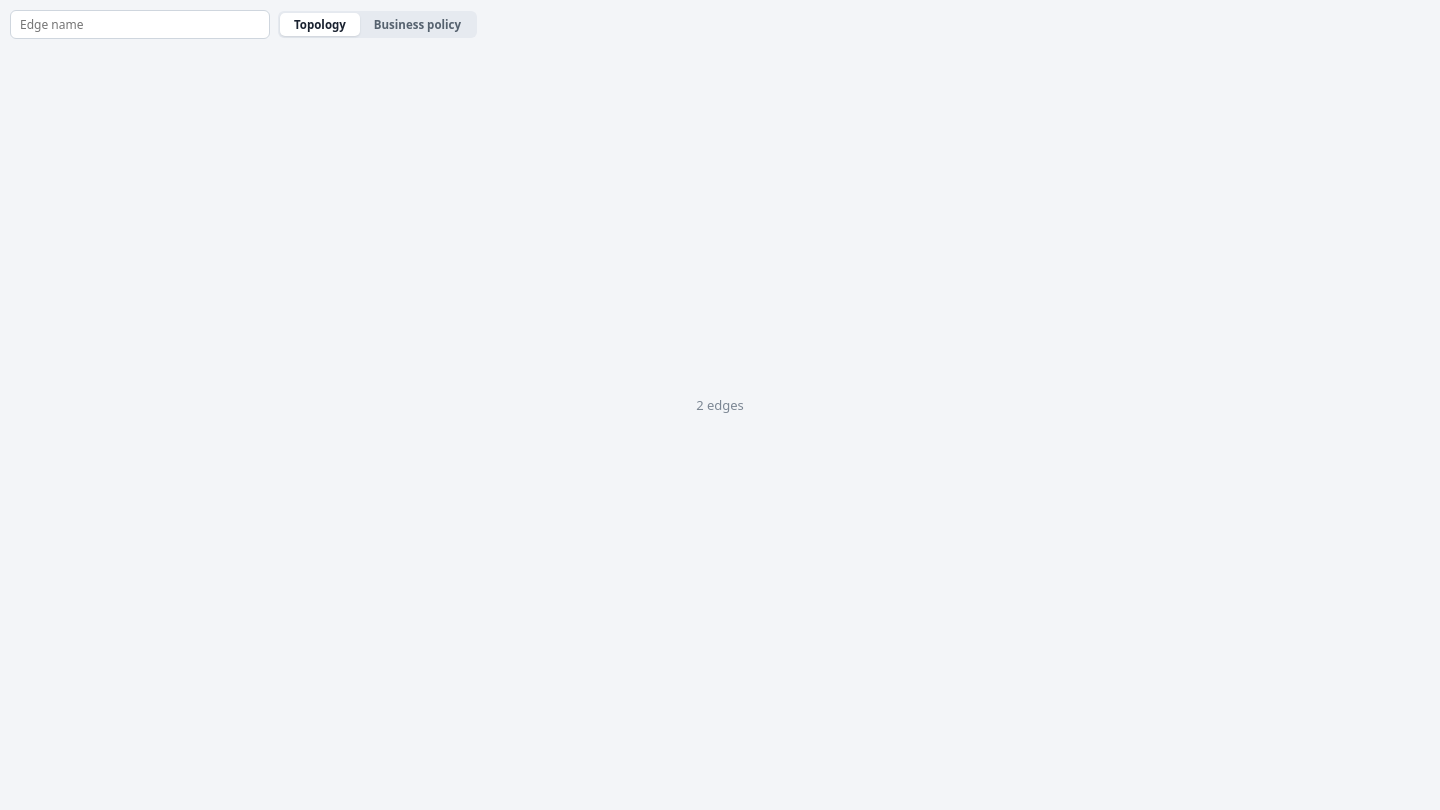
SdwanPage › shows the business policy as rules in position order
Expected: the text "2 edges" is shown, top-left (696, 396), bottom-right (744, 414)
Type "XX-CITY-BR-RTS-01" into the field named "SD-WAN edge". click: [140, 24]
box: top-left (10, 10), bottom-right (270, 39)
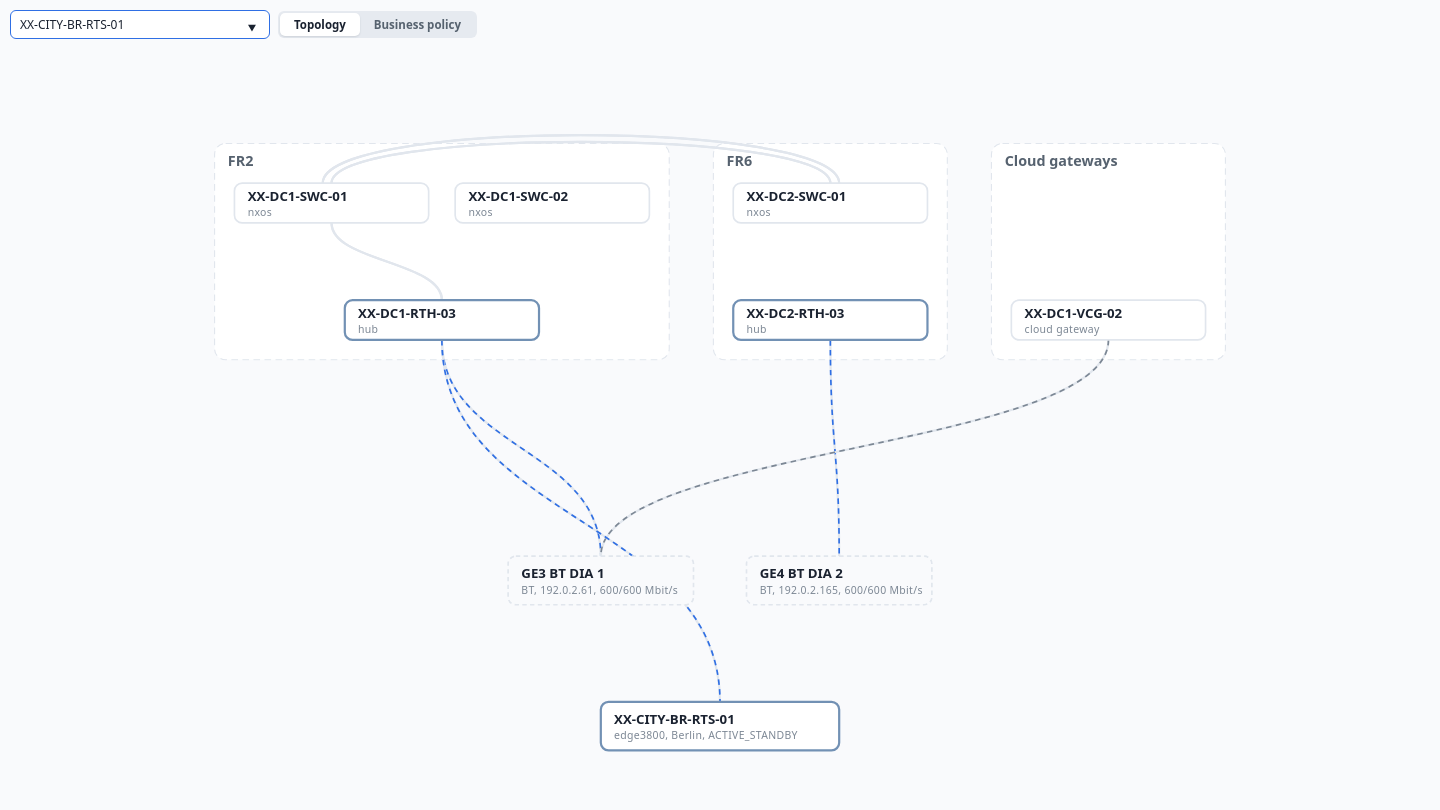
Expected: the icon named "SD-WAN topology" is shown
Click the radio button labelled "Business policy". click: [417, 24]
box: top-left (360, 13), bottom-right (475, 36)
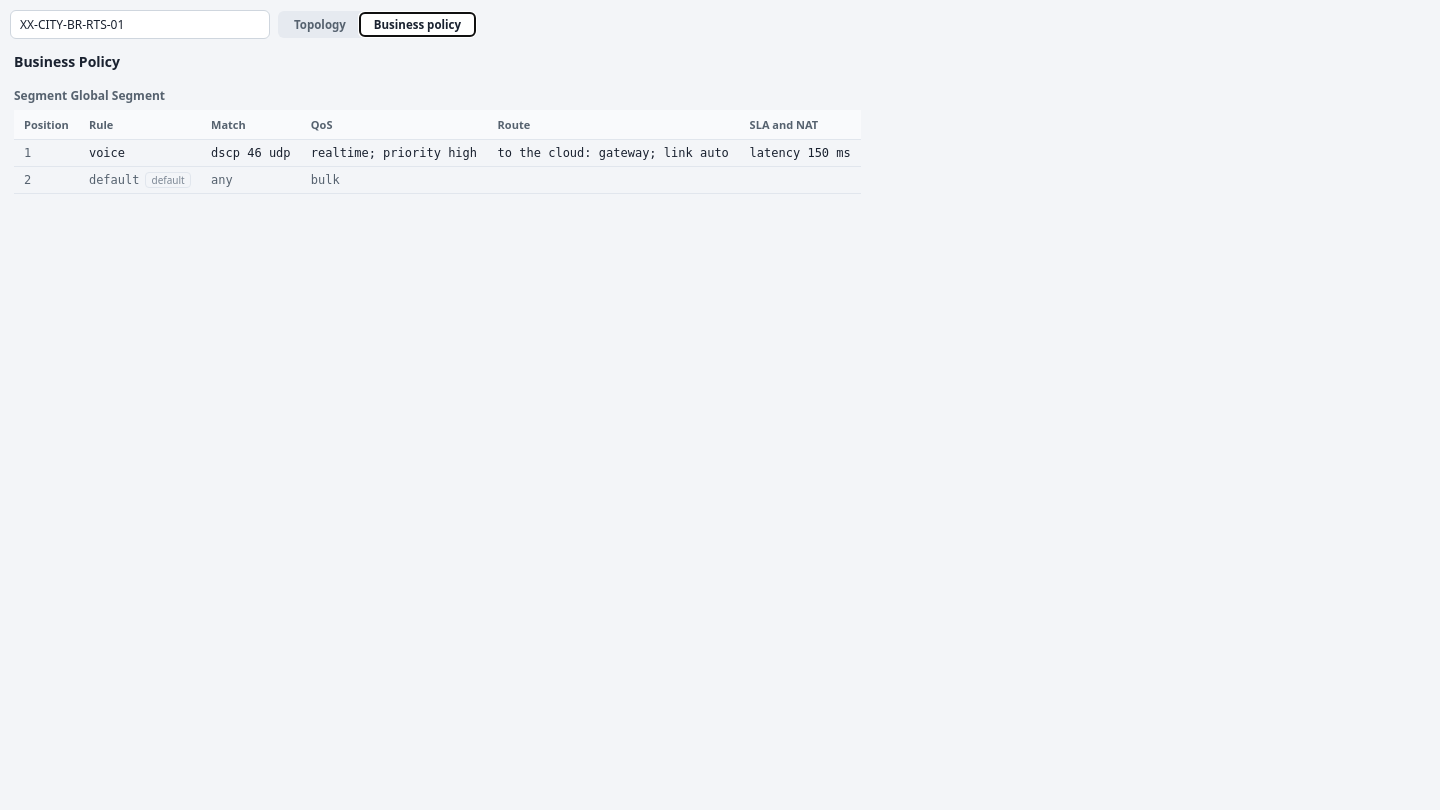
Expected: the row that starts with "voice" shows "realtime; priority high", top-left (311, 146), bottom-right (477, 160)
Expected: the row that starts with "voice" shows "to the cloud: gateway; link auto", top-left (14, 140), bottom-right (861, 166)
Expected: the 3rd row shows "default", top-left (89, 173), bottom-right (140, 187)
